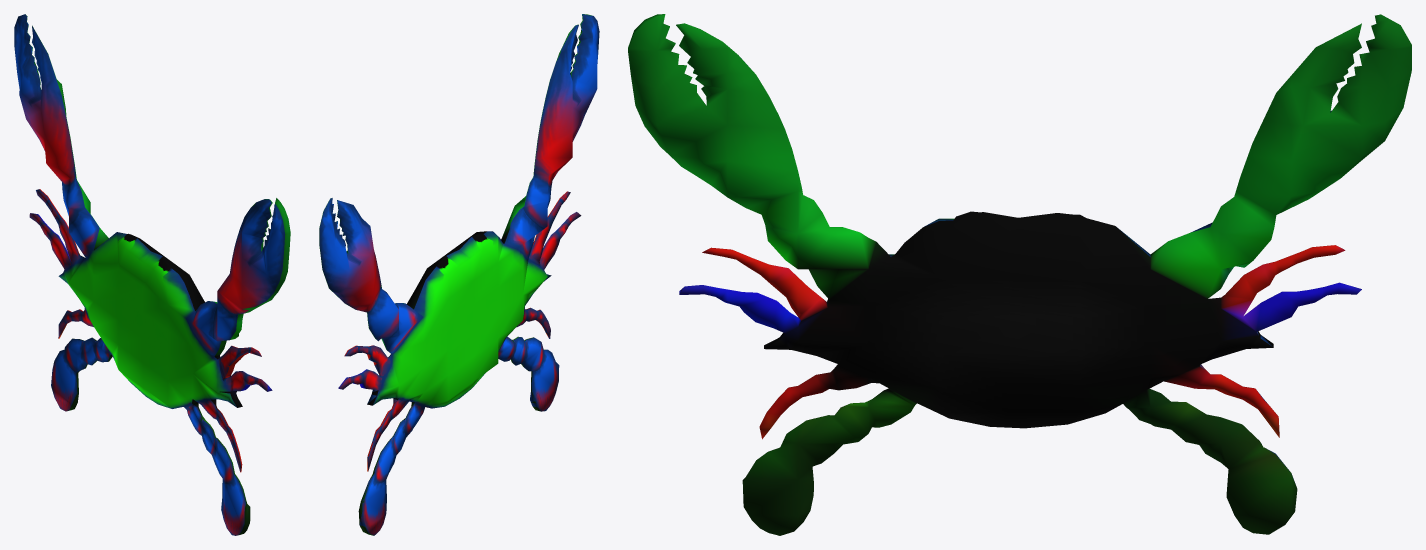
Rendered from crab11.fbx.
The picture shows the model from 3 angles, left to right: view 1: azimuth 30°, elevation 25°; view 2: azimuth 150°, elevation 25°; view 3: azimuth 270°, elevation 25°; orthographic projection. The views are drawn at different scales.
Visible parts, largest first — view 1: 8b5fcca9-0bd1-453d-b090-de07f664e9b1; view 2: 8b5fcca9-0bd1-453d-b090-de07f664e9b1; view 3: 8b5fcca9-0bd1-453d-b090-de07f664e9b1.
Boxes of the visible parts, bbox=[...] form: 8b5fcca9-0bd1-453d-b090-de07f664e9b1: bbox=[14, 14, 290, 535]; 8b5fcca9-0bd1-453d-b090-de07f664e9b1: bbox=[319, 14, 599, 535]; 8b5fcca9-0bd1-453d-b090-de07f664e9b1: bbox=[628, 14, 1411, 535].
Size of the model in its own units: 0.0986 by 0.9065 by 1.24.
